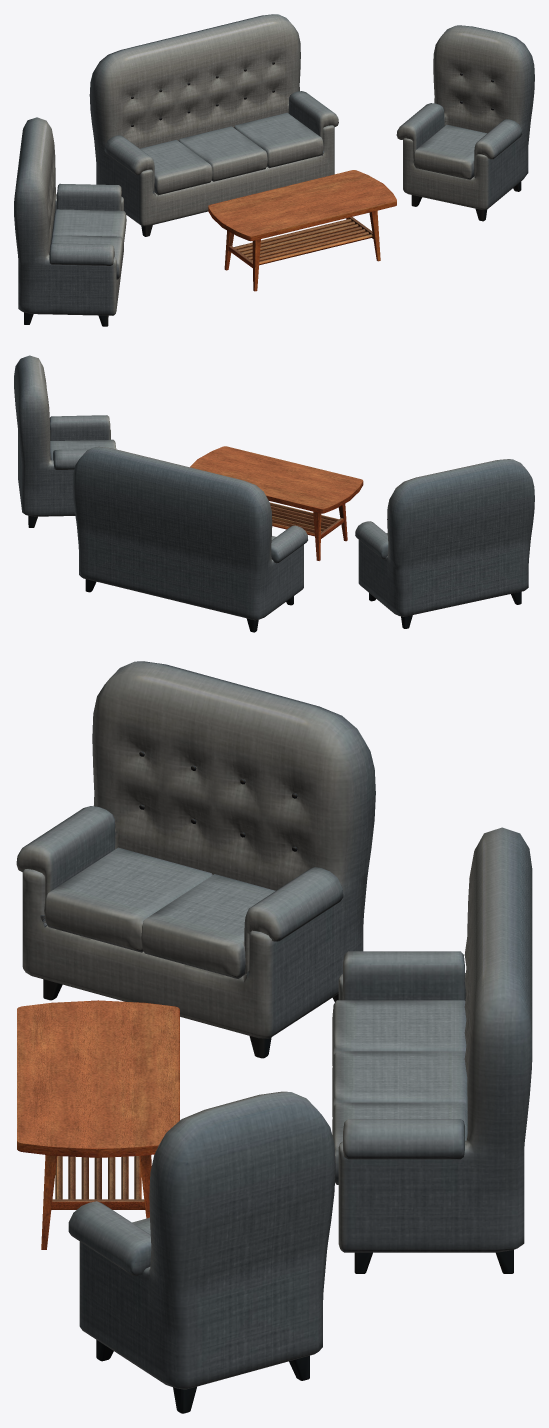
File: sofa_and_table.glb
The picture shows the model from 3 angles, top to bottom: view 1: azimuth 30°, elevation 25°; view 2: azimuth 150°, elevation 25°; view 3: azimuth 270°, elevation 25°; orthographic projection. The views are drawn at different scales.
Visible parts, largest first — view 1: SOFA3, SOFA1, SOFA2, TABLE; view 2: SOFA3, SOFA2, SOFA1, TABLE; view 3: SOFA2, SOFA3, SOFA1, TABLE.
Part boxes in pixels (x1,y1,x2,y2): SOFA3: (89, 14, 338, 236); SOFA1: (396, 25, 534, 221); SOFA2: (14, 117, 126, 326); TABLE: (208, 170, 396, 291); SOFA3: (72, 446, 307, 632); SOFA2: (355, 459, 534, 628); SOFA1: (14, 355, 116, 527); TABLE: (190, 446, 363, 560); SOFA2: (16, 661, 375, 1058); SOFA3: (332, 827, 532, 1273); SOFA1: (68, 1091, 335, 1413); TABLE: (17, 1000, 179, 1249).
Bounding box in the file's own units: 935 × 259 × 415.
2 materials, 2 textured.
